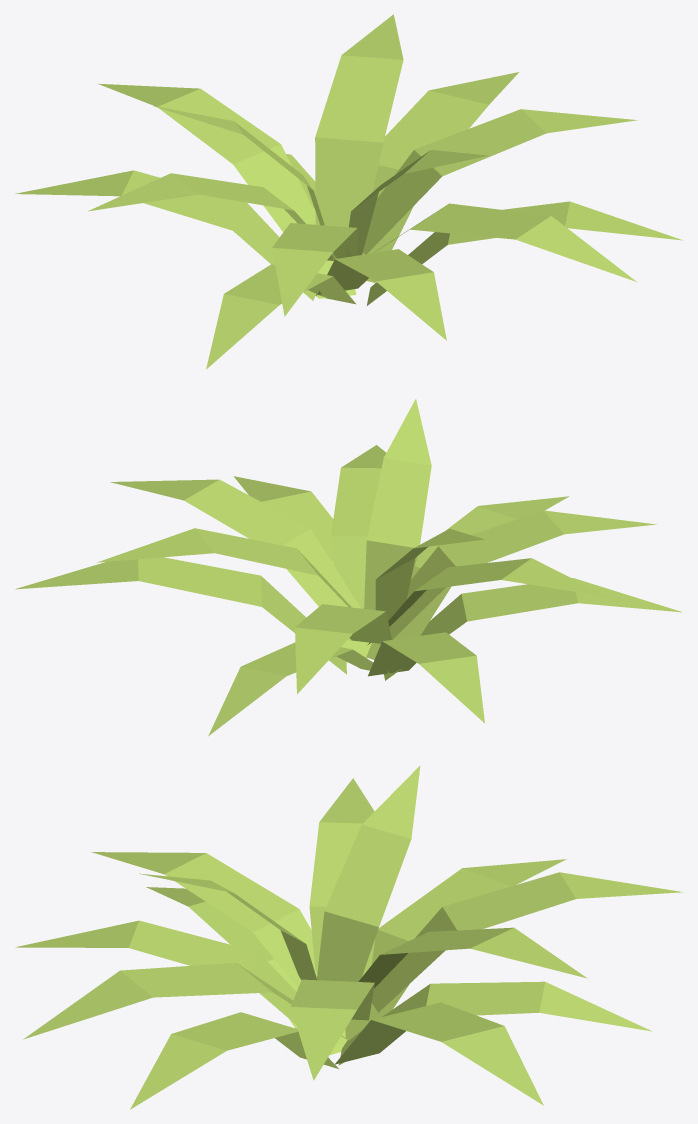
Rendered from Plant1_oneside.fbx.
3 renders of one model, top to bottom at view 1: azimuth 30°, elevation 25°; view 2: azimuth 150°, elevation 25°; view 3: azimuth 270°, elevation 25°, orthographic. The views are drawn at different scales.
Parts seen in each view (by area): view 1: Plant1_oneside; view 2: Plant1_oneside; view 3: Plant1_oneside.
Part boxes in pixels (x1,y1,x2,y2): Plant1_oneside: (15, 14, 683, 369); Plant1_oneside: (15, 399, 682, 736); Plant1_oneside: (15, 765, 683, 1109).
Size of the model in its own units: 1.88 by 0.679 by 1.92.
